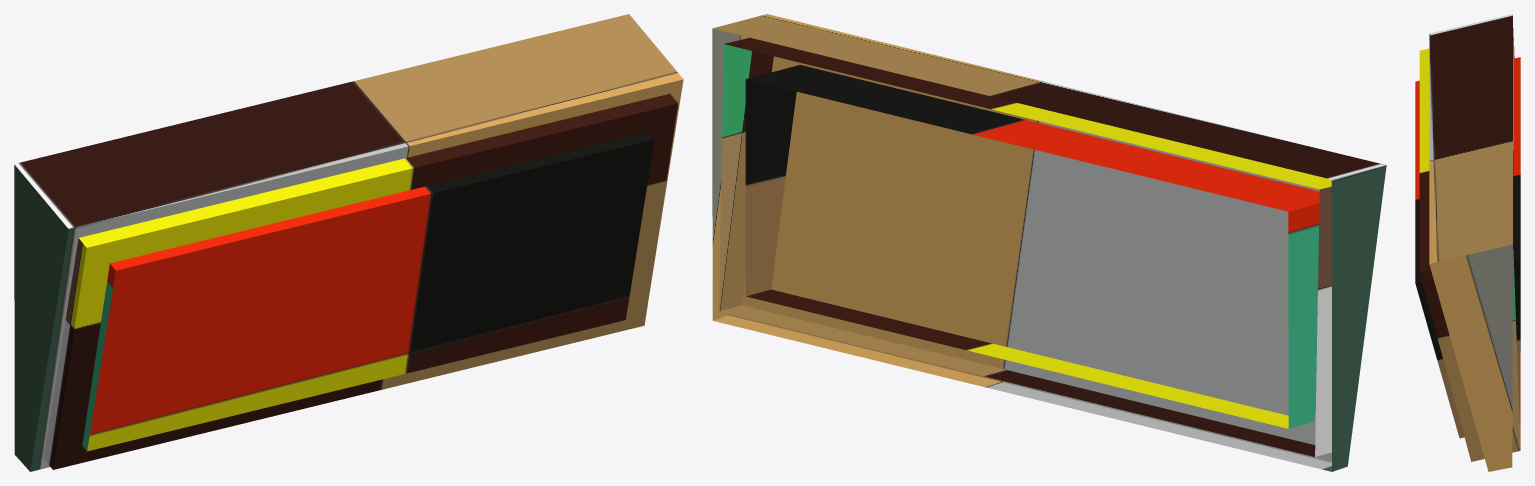
Rendered from New Exit Sign Week 2.fbx.
3 renders of one model, left to right at view 1: azimuth 30°, elevation 25°; view 2: azimuth 150°, elevation 25°; view 3: azimuth 270°, elevation 25°, orthographic. The views are drawn at different scales.
Visible parts, largest first — view 1: pCube2; view 2: pCube2; view 3: pCube2.
Boxes of the visible parts, left/top/right/bottom form: pCube2: left=14, top=14, right=683, bottom=471; pCube2: left=712, top=14, right=1386, bottom=471; pCube2: left=1415, top=14, right=1520, bottom=471.
Bounding box in the file's own units: 22.89 × 10.54 × 4.42.
